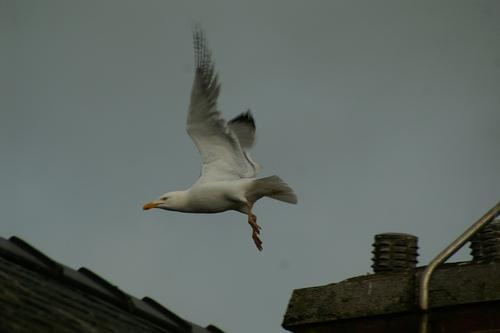bird: (139, 20, 299, 251)
